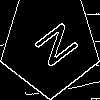N: (25, 19, 81, 76)
